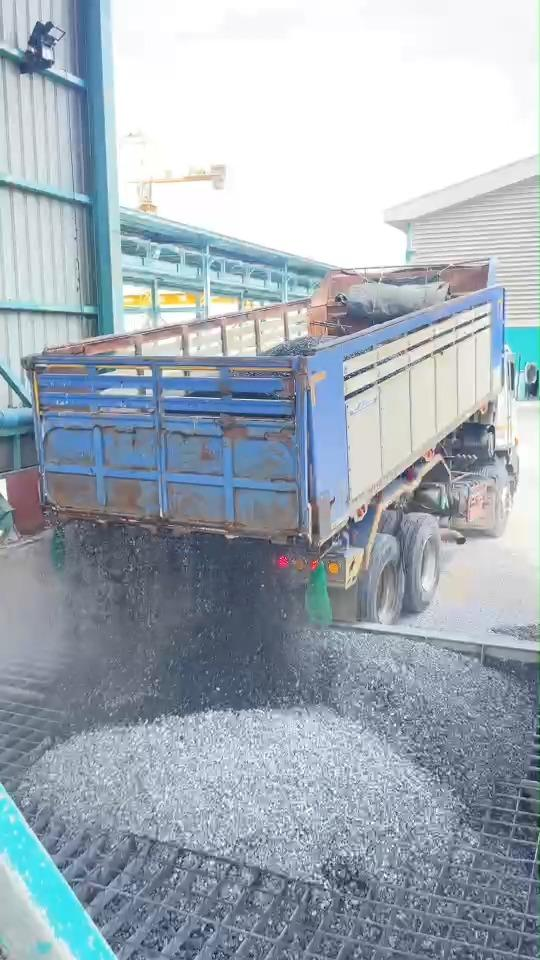gravel: (22, 707, 458, 881), (60, 523, 295, 722), (295, 629, 535, 802), (264, 336, 323, 356), (492, 623, 539, 640)
